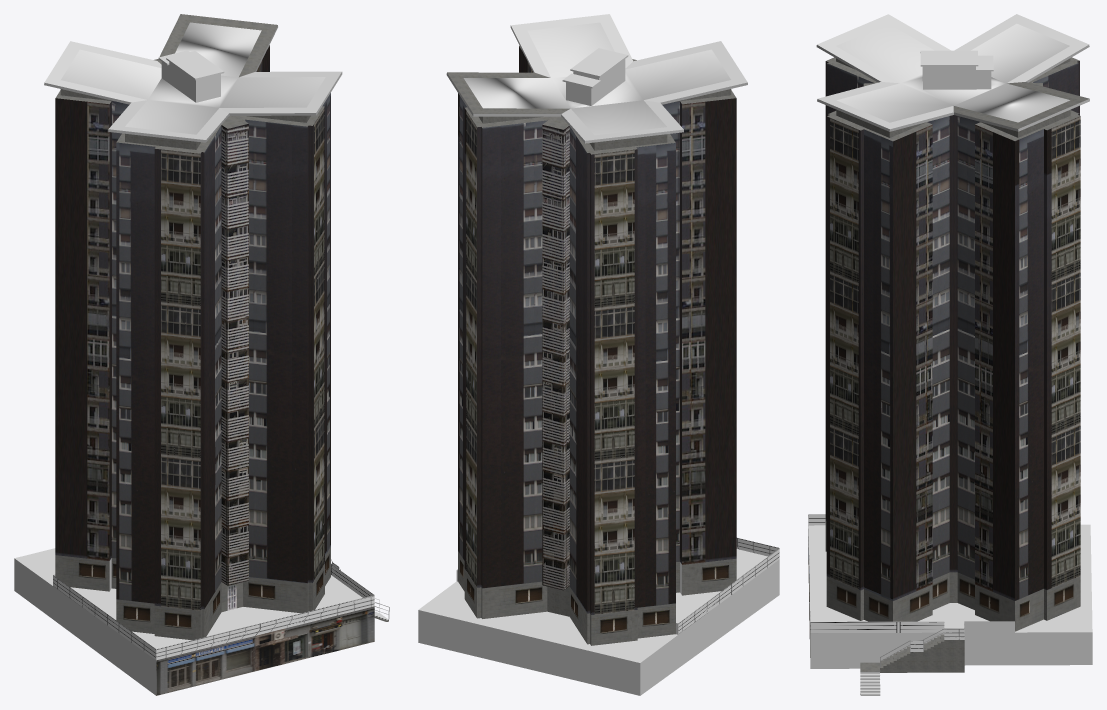
File: building2_0.glb
The picture shows the model from 3 angles, left to right: view 1: azimuth 30°, elevation 25°; view 2: azimuth 150°, elevation 25°; view 3: azimuth 270°, elevation 25°; orthographic projection.
Visible parts, largest first — view 1: Sketchup; view 2: Sketchup; view 3: Sketchup.
Part boxes in pixels (box(x1,y1,x2,y2)): Sketchup: box(14, 14, 389, 695); Sketchup: box(418, 14, 779, 695); Sketchup: box(808, 14, 1092, 695).
Size of the model in its own units: 27.62 by 55.25 by 25.2.
19 materials, 15 textured.
